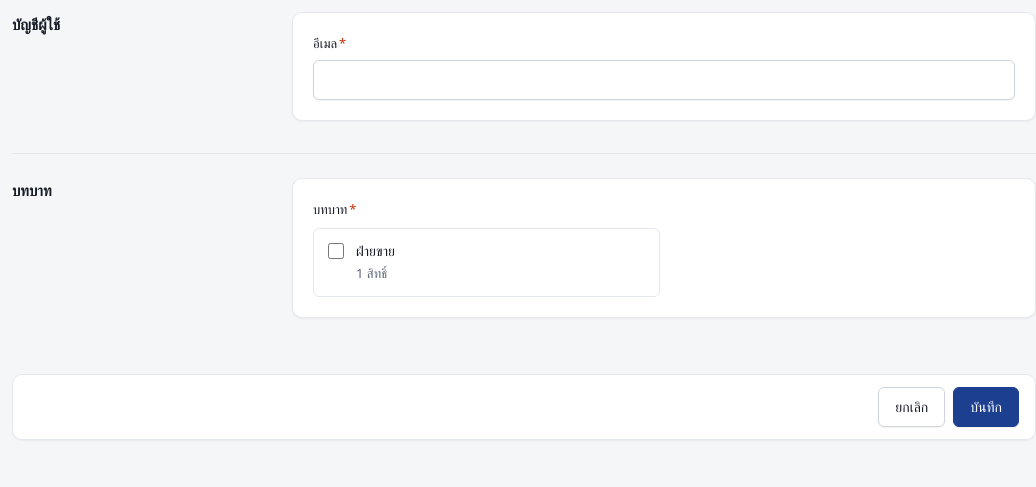
Scenario: MemberAddForm › ต้องเลือกบทบาทอย่างน้อย 1
Type "a@b.co" into the field labelled "อีเมล".
click(664, 80); type("a@b.co")  # box [314, 61, 1014, 99]
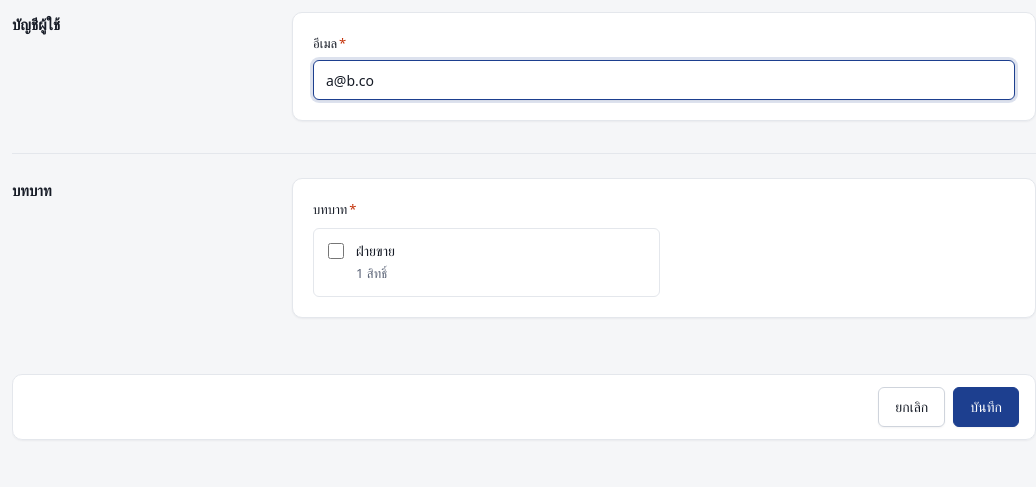
Click the button "บันทึก".
click(986, 407)  # box [953, 387, 1019, 427]
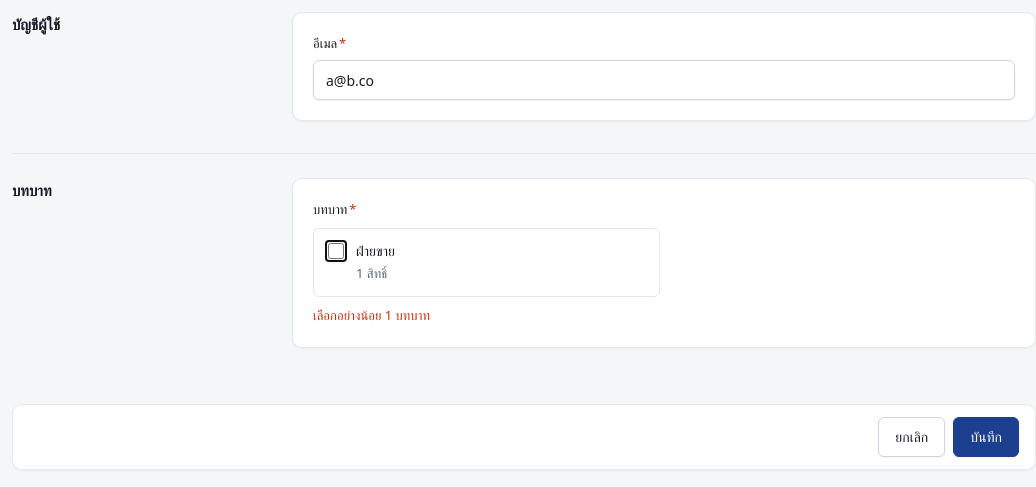
Now the text "เลือกอย่างน้อย 1 บทบาท" is shown, box [313, 306, 430, 324]
